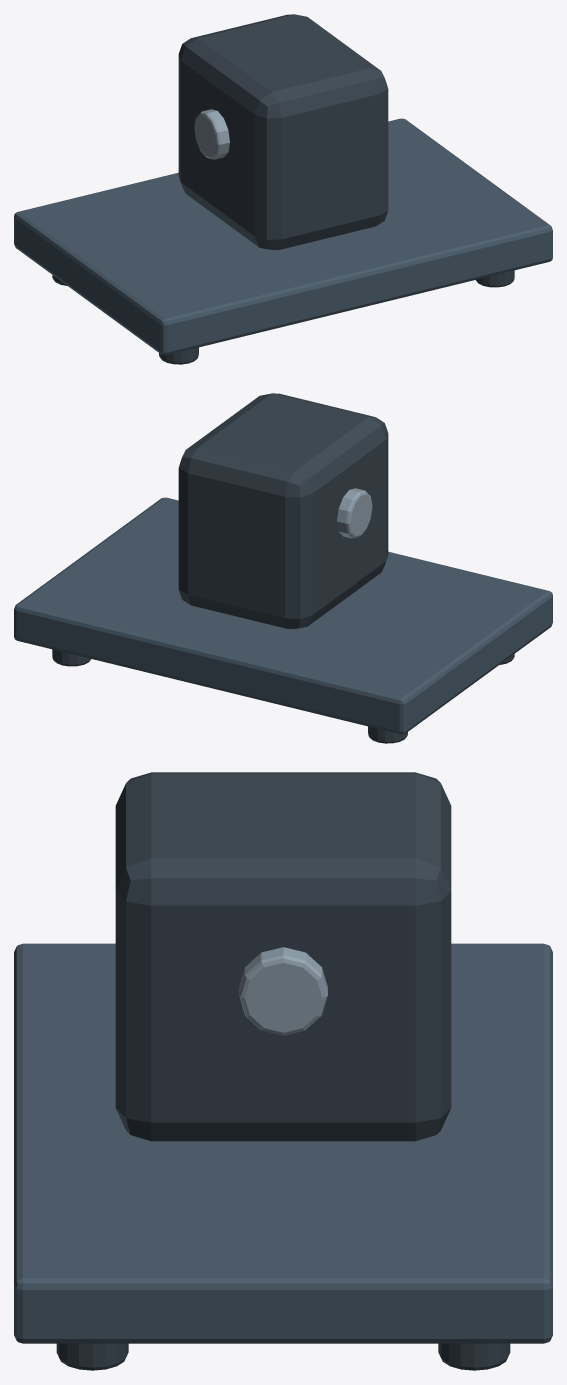
The model's file is bearing-assembly-lod1.glb.
3 renders of one model, top to bottom at view 1: azimuth 30°, elevation 25°; view 2: azimuth 150°, elevation 25°; view 3: azimuth 270°, elevation 25°, orthographic. The views are drawn at different scales.
Visible parts, largest first — view 1: drive_base, bearing_drive_housing, bearing_drive_shaft, base_mount_-1.4500000000000002_-0.85, base_mount_1.4500000000000002_-0.85; view 2: drive_base, bearing_drive_housing, bearing_drive_shaft, base_mount_-1.4500000000000002_0.85, base_mount_1.4500000000000002_0.85; view 3: drive_base, bearing_drive_housing, bearing_drive_shaft, base_mount_1.4500000000000002_0.85, base_mount_1.4500000000000002_-0.85.
Boxes of the visible parts, x1=… form: drive_base: x1=14, y1=118, x2=552, y2=355; bearing_drive_housing: x1=178, y1=14, x2=388, y2=250; bearing_drive_shaft: x1=194, y1=109, x2=229, y2=159; base_mount_-1.4500000000000002_-0.85: x1=159, y1=347, x2=198, y2=364; base_mount_1.4500000000000002_-0.85: x1=476, y1=270, x2=514, y2=287; drive_base: x1=14, y1=497, x2=552, y2=734; bearing_drive_housing: x1=178, y1=393, x2=388, y2=629; bearing_drive_shaft: x1=337, y1=488, x2=372, y2=538; base_mount_-1.4500000000000002_0.85: x1=368, y1=726, x2=407, y2=743; base_mount_1.4500000000000002_0.85: x1=52, y1=649, x2=90, y2=666; drive_base: x1=14, y1=943, x2=552, y2=1343; bearing_drive_housing: x1=115, y1=772, x2=451, y2=1141; bearing_drive_shaft: x1=239, y1=947, x2=327, y2=1035; base_mount_1.4500000000000002_0.85: x1=438, y1=1343, x2=510, y2=1370; base_mount_1.4500000000000002_-0.85: x1=56, y1=1343, x2=128, y2=1370.
Size of the model in its own units: 3.6 by 1.99 by 2.4.
